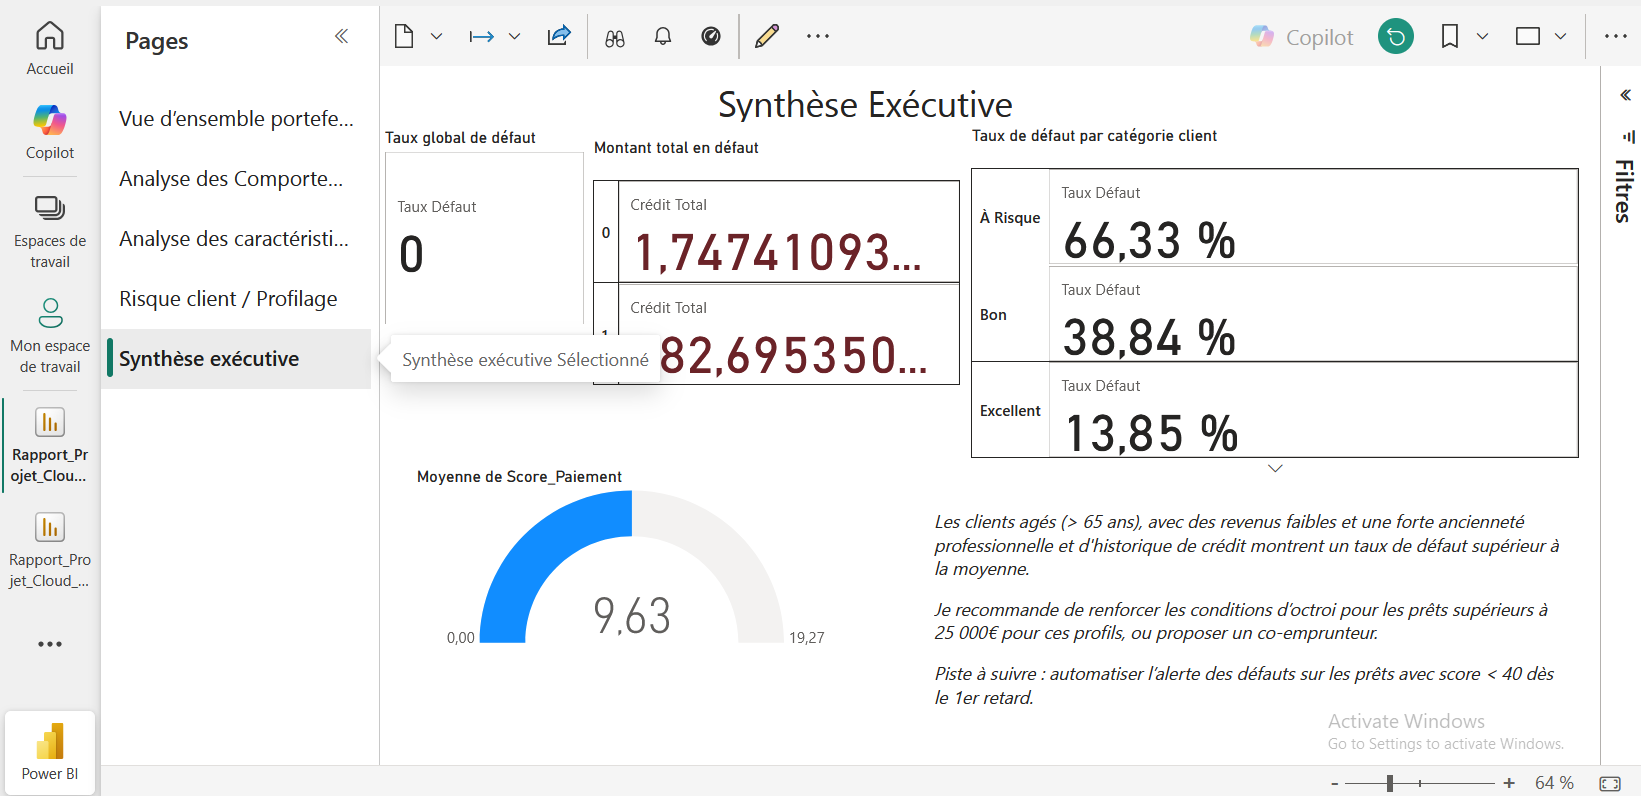

What the dashboard file says about the page in this screenshot:
{"tool":"powerbi","page":{"name":"Synthèse exécutive","canvas":[1280,720],"ordinal":4},"visuals":[{"type":"cardVisual","title":"Taux global de défaut","fields":{"Data":["Dataset_Risque_de_Credit_Clean_Test.Taux Défaut"]},"box":[0,64.3,219.2,211.7],"z":0},{"type":"cardVisual","title":"Taux de défaut par catégorie client","fields":{"Data":["Dataset_Risque_de_Credit_Clean_Test.Taux Défaut"],"Rows":["Dataset_Risque_de_Credit_Clean_Test.Catégorie_Client"]},"box":[614.4,63.4,647,374.4],"z":1000},{"type":"cardVisual","title":"Montant total en défaut","fields":{"Data":["Dataset_Risque_de_Credit_Clean_Test.Crédit Total"],"Rows":["Dataset_Risque_de_Credit_Clean_Test.Défaut_mois_suivant"]},"box":[218.9,74.9,395.5,286.1],"z":2000},{"type":"gauge","fields":{"Y":["Avg(Dataset_Risque_de_Credit_Clean_Test.Score_Paiement)"]},"box":[32.6,420.5,470.4,193.9],"z":3000},{"type":"textbox","box":[576,458.9,666.2,236.2],"z":4000},{"type":"textbox","box":[349.4,7.7,414.7,55.7],"z":5000}]}

Visuals, with their boxes on the page's 1280x720 design canvas (x1, y1, x2, y2). These are canvas units, not pixel positions in the 1641x796 screenshot, which may show the page scaled, cropped or inside an application window:
"Taux global de défaut" cardVisual: {"left": 0, "top": 64, "right": 219, "bottom": 276}
"Taux de défaut par catégorie client" cardVisual: {"left": 614, "top": 63, "right": 1261, "bottom": 438}
"Montant total en défaut" cardVisual: {"left": 219, "top": 75, "right": 614, "bottom": 361}
gauge - Avg(Dataset_Risque_de_Credit_Clean_Test.Score_Paiement): {"left": 33, "top": 420, "right": 503, "bottom": 614}
textbox: {"left": 576, "top": 459, "right": 1242, "bottom": 695}
textbox: {"left": 349, "top": 8, "right": 764, "bottom": 63}
